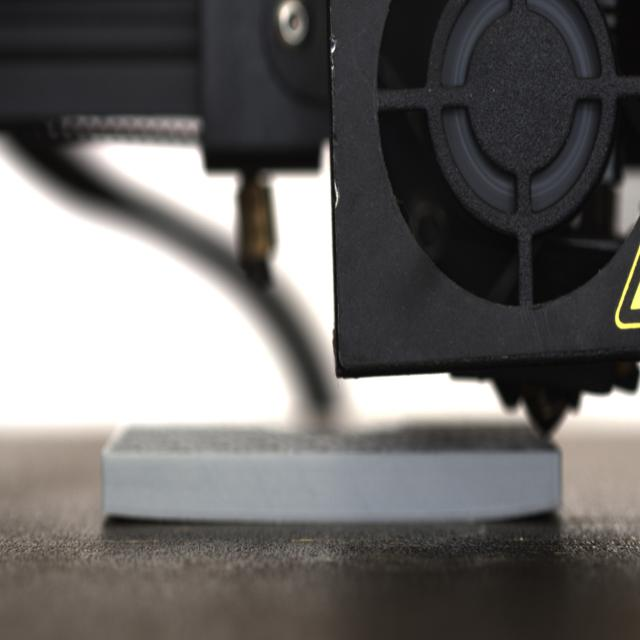Warping: (94, 503, 165, 532)
